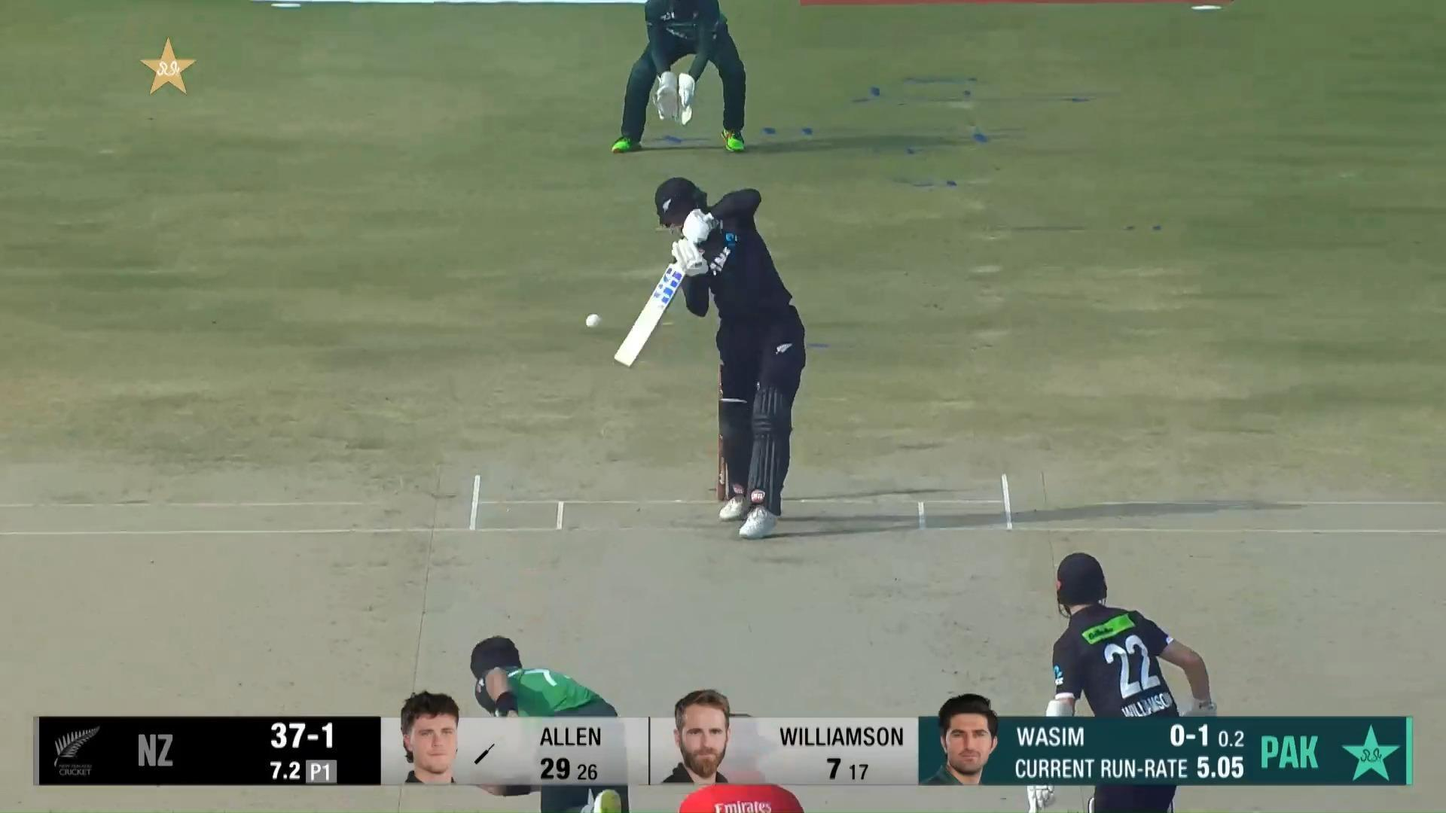BM 1: (610, 175, 807, 542)
BO: (467, 632, 631, 813)
